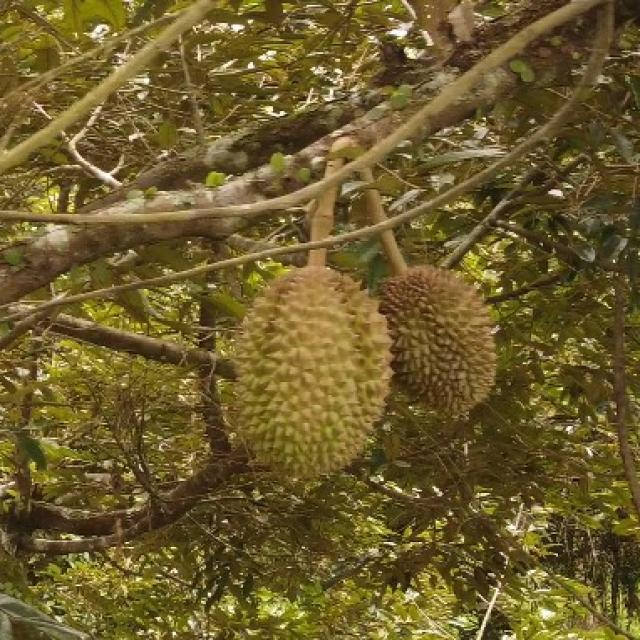mature: (227, 266, 395, 474), (376, 263, 499, 415)
